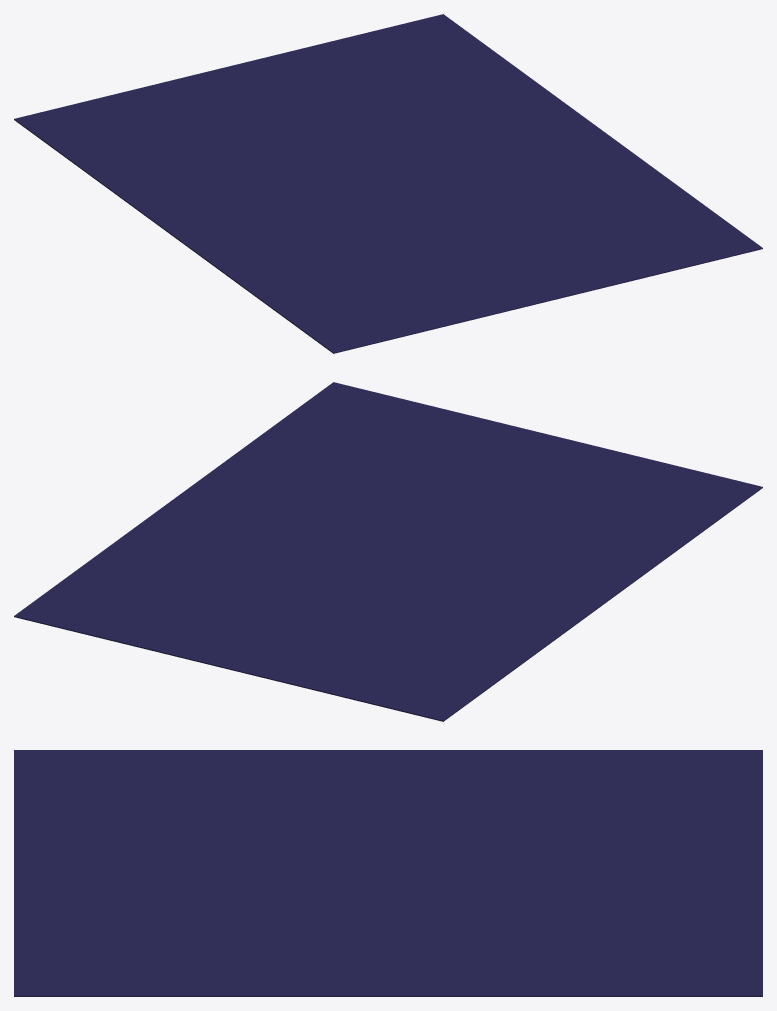
Rendered from floor.FBX.
The picture shows the model from 3 angles, top to bottom: view 1: azimuth 30°, elevation 25°; view 2: azimuth 150°, elevation 25°; view 3: azimuth 270°, elevation 25°; orthographic projection. The views are drawn at different scales.
Parts seen in each view (by area): view 1: floor; view 2: floor; view 3: floor.
Part boxes in pixels (box(x1,y1,x2,y2)): floor: box(14, 14, 762, 353); floor: box(14, 382, 762, 721); floor: box(14, 750, 762, 996).
Bounding box in the file's own units: 36.72 × 0.0899 × 47.33.
